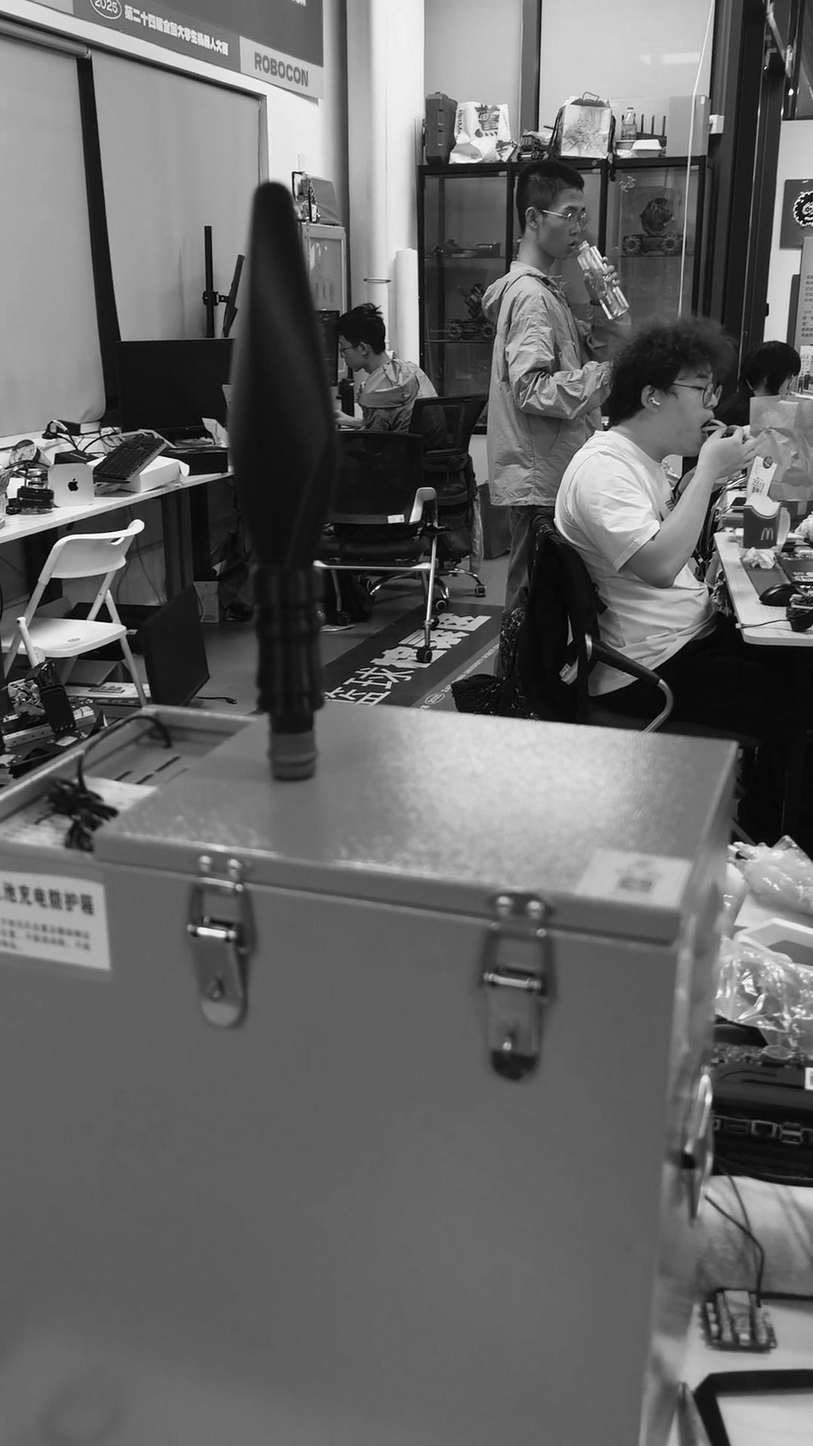base: (266, 726, 318, 779)
